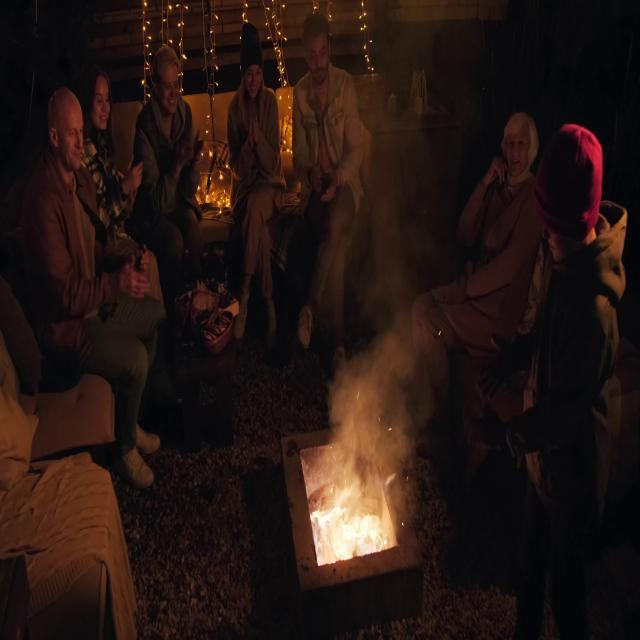Fire: (326, 278, 442, 463), (310, 482, 382, 562)
